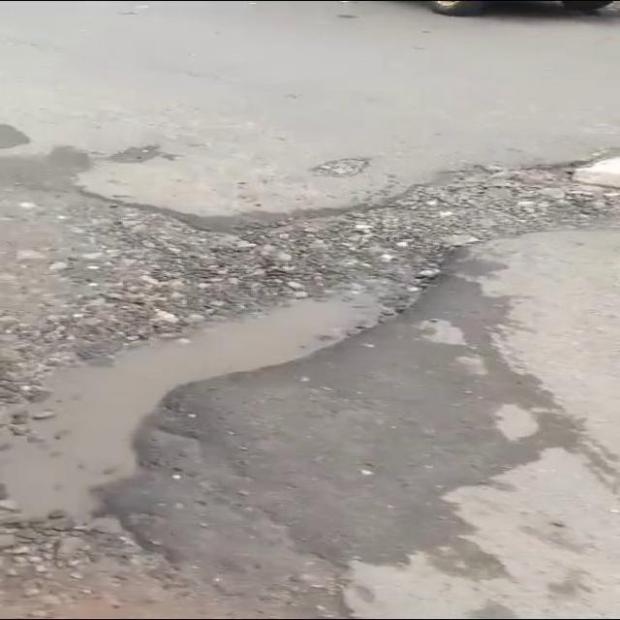lubang: (0, 156, 619, 519), (311, 158, 369, 177)
